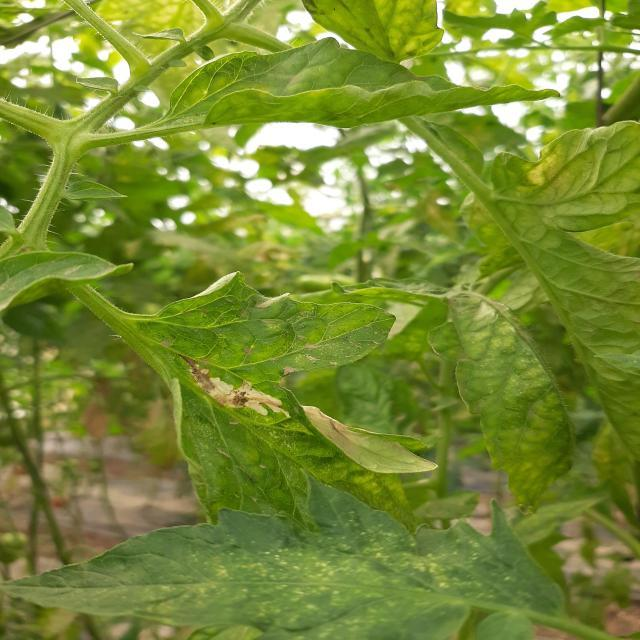Tuta absoluta: (171, 353, 296, 433)
